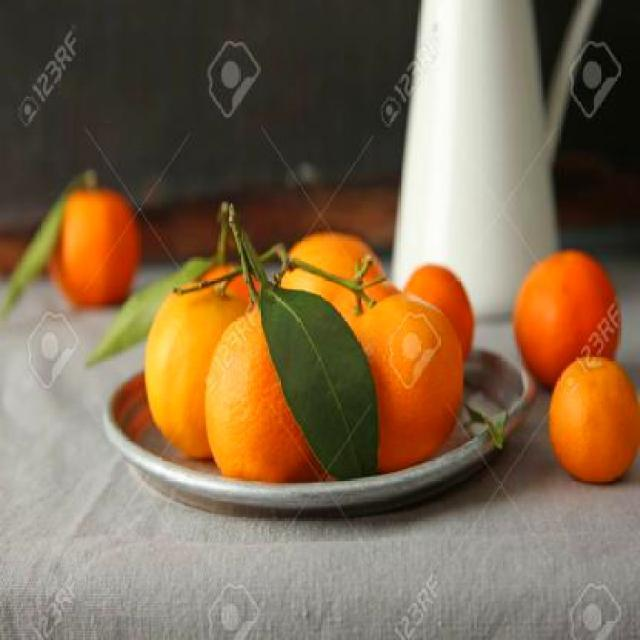Jeruk Sudah Matang: (147, 264, 270, 476), (327, 288, 465, 472), (208, 303, 342, 489), (283, 230, 400, 401), (515, 253, 623, 387), (51, 184, 140, 310), (551, 360, 640, 482), (400, 260, 476, 398)
